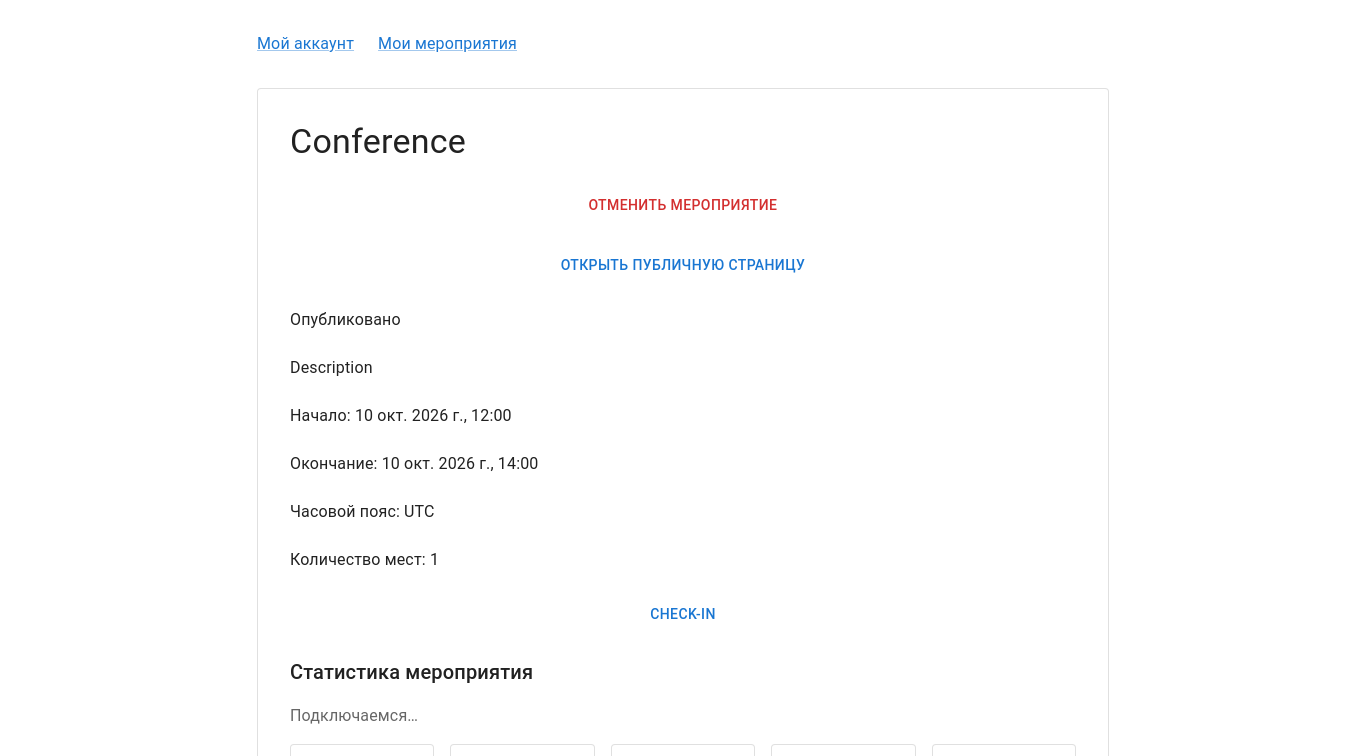
Test: requires confirmation, prevents duplicate pending request, updates caches and removes actions
Click the button "Отменить мероприятие" at coordinates (683, 205), box [290,187,1076,224]
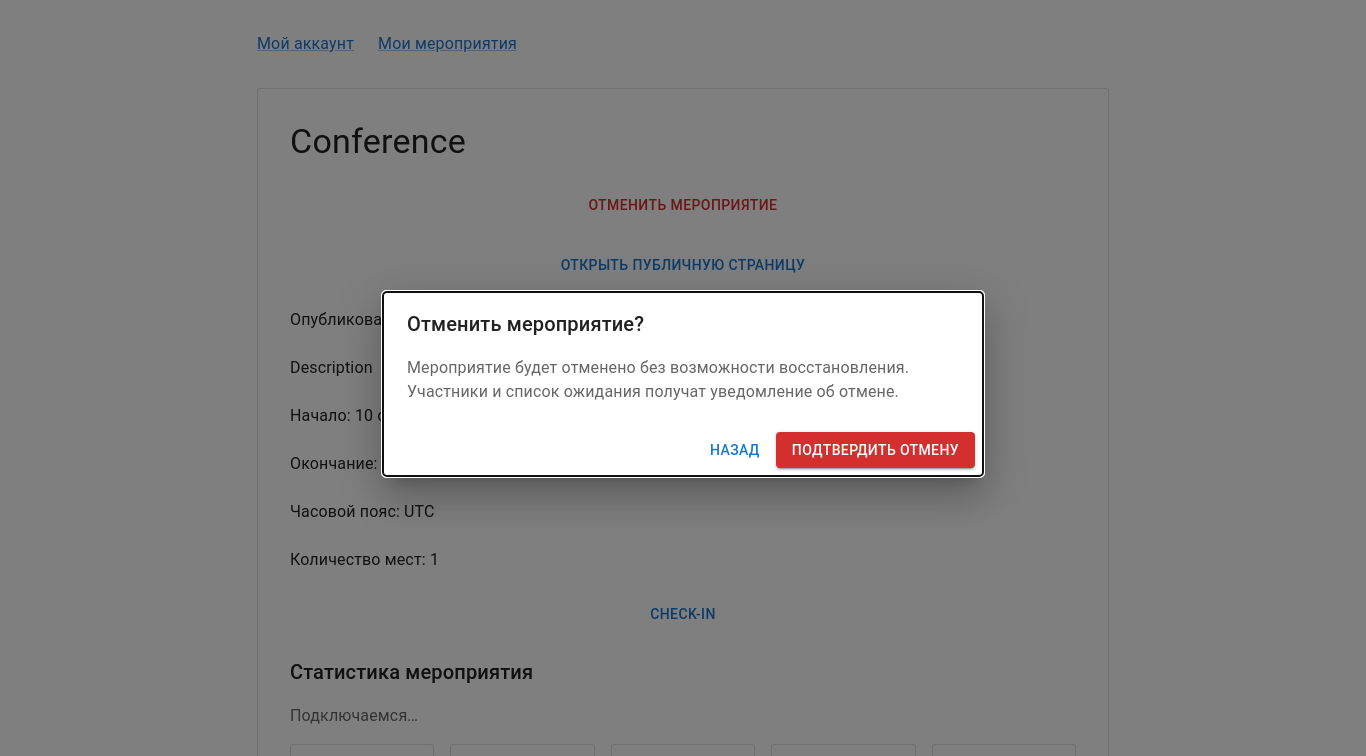
Click the button "Подтвердить отмену" at coordinates (875, 450), box [776,432,975,468]
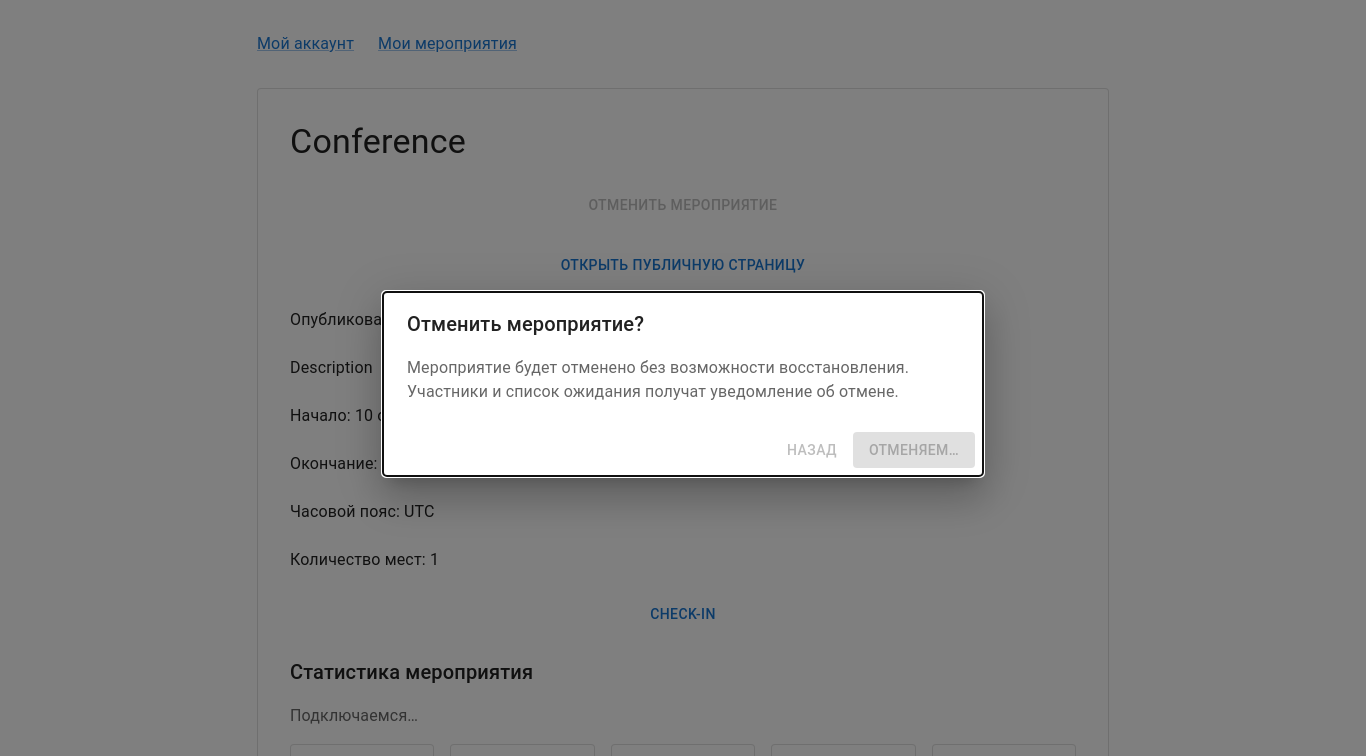
Result: the button "Отменяем…" is disabled
Click the button "Отменяем…" at coordinates (914, 450), box [853,432,975,468]
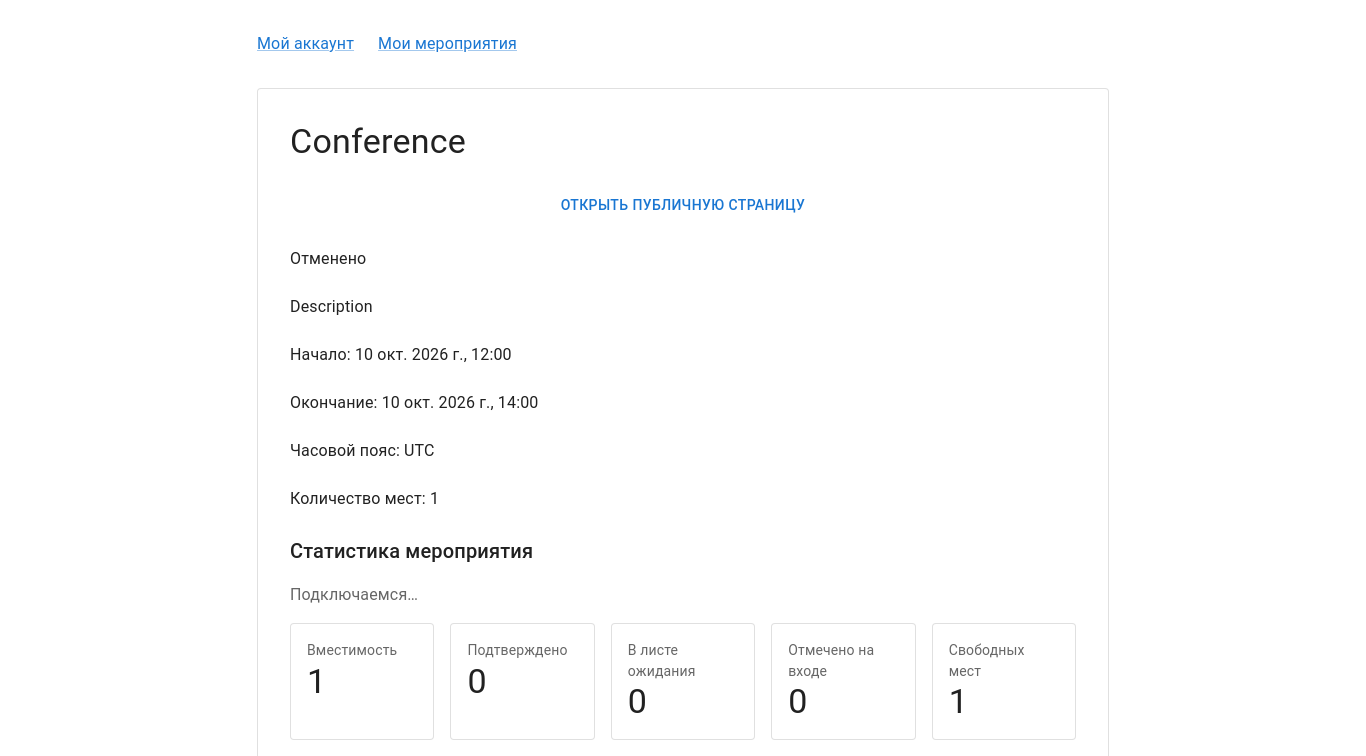
Result: the text "Отменено" is shown at [290,250,366,268]
Result: the dialog is gone
Result: the link "Check-in" is gone
